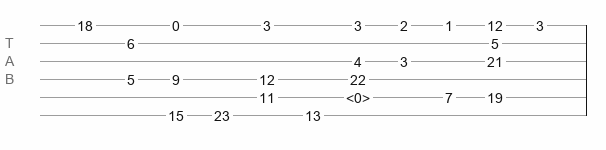0: (172, 18, 180, 28)
1: (445, 18, 453, 28)
11: (259, 90, 275, 100)
12: (259, 72, 275, 82), (487, 18, 503, 28)
13: (305, 108, 321, 118)
15: (168, 108, 184, 118)
18: (77, 18, 93, 28)
19: (487, 90, 503, 100)
2: (400, 18, 408, 28)
21: (487, 54, 503, 64)
22: (350, 72, 366, 82)
23: (214, 108, 230, 118)
3: (263, 18, 271, 28), (354, 18, 362, 28), (400, 54, 408, 64), (536, 18, 544, 28)
4: (354, 54, 362, 64)
5: (127, 72, 135, 82), (491, 36, 499, 46)
6: (127, 36, 135, 46)
7: (445, 90, 453, 100)
9: (172, 72, 180, 82)
harmonic: (346, 90, 370, 100)
